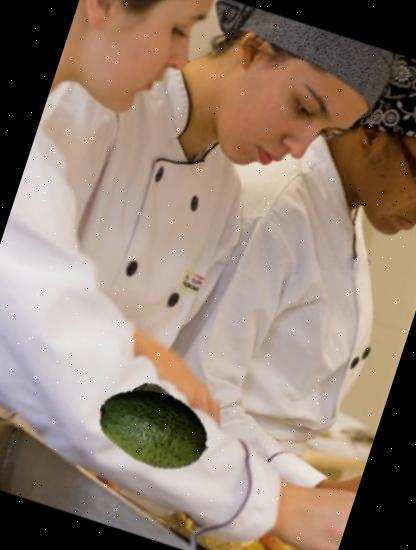Avocado: (80, 354, 226, 500)
Cactus: (103, 368, 218, 483)
